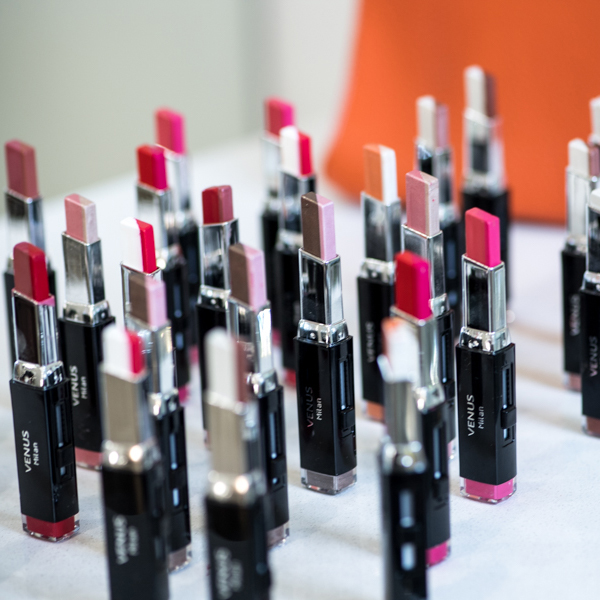Nonrec_Other: (9, 136, 563, 591), (283, 193, 375, 501), (449, 201, 528, 511)
